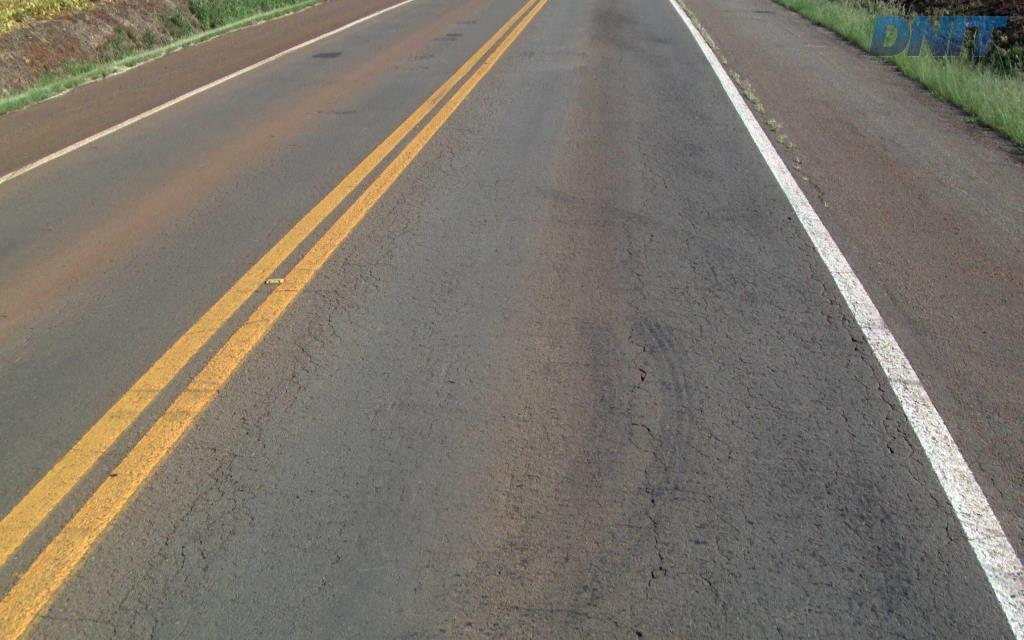crack: (869, 541, 913, 627)
